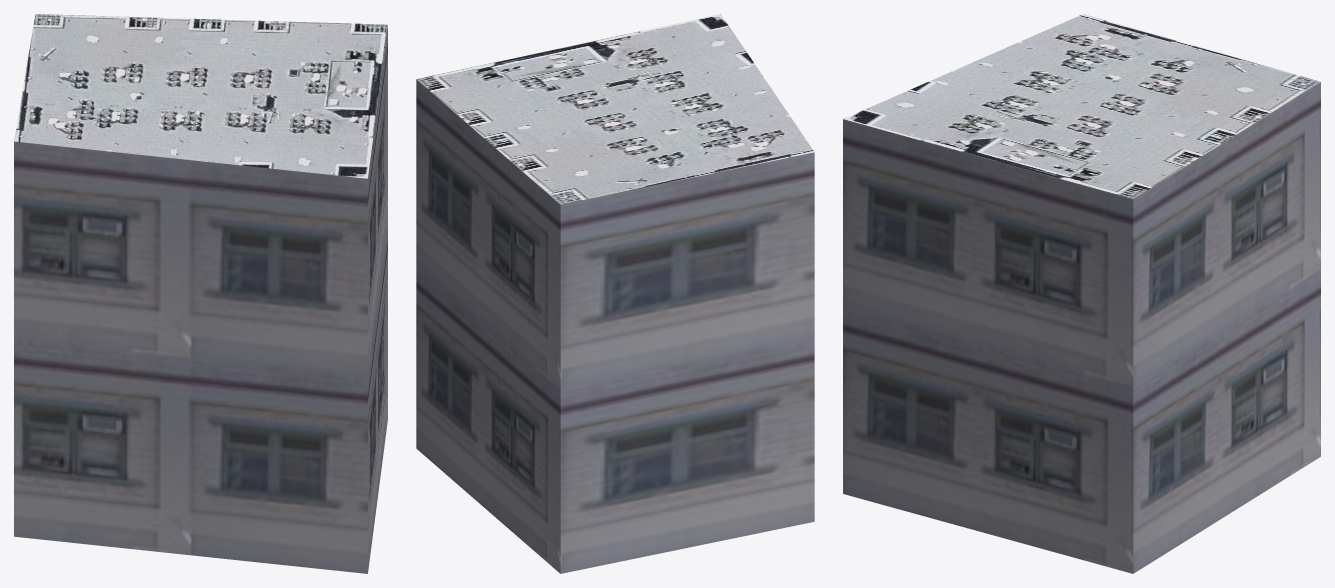
The model's file is ResTex__113.fbx.
3 renders of one model, left to right at view 1: azimuth 30°, elevation 25°; view 2: azimuth 150°, elevation 25°; view 3: azimuth 270°, elevation 25°, orthographic. The views are drawn at different scales.
Parts seen in each view (by area): view 1: CityEngineMaterial_1_m, CityEngineMaterial_8_m; view 2: CityEngineMaterial_1_m, CityEngineMaterial_8_m; view 3: CityEngineMaterial_1_m, CityEngineMaterial_8_m.
Part boxes in pixels (x1,y1,x2,y2): CityEngineMaterial_1_m: (14, 26, 387, 573); CityEngineMaterial_8_m: (14, 14, 387, 178); CityEngineMaterial_1_m: (416, 79, 814, 573); CityEngineMaterial_8_m: (416, 14, 814, 204); CityEngineMaterial_1_m: (843, 82, 1320, 573); CityEngineMaterial_8_m: (843, 14, 1320, 198).
Bounding box in the file's own units: 6.36 × 6 × 6.94.
2 materials, 2 textured.
